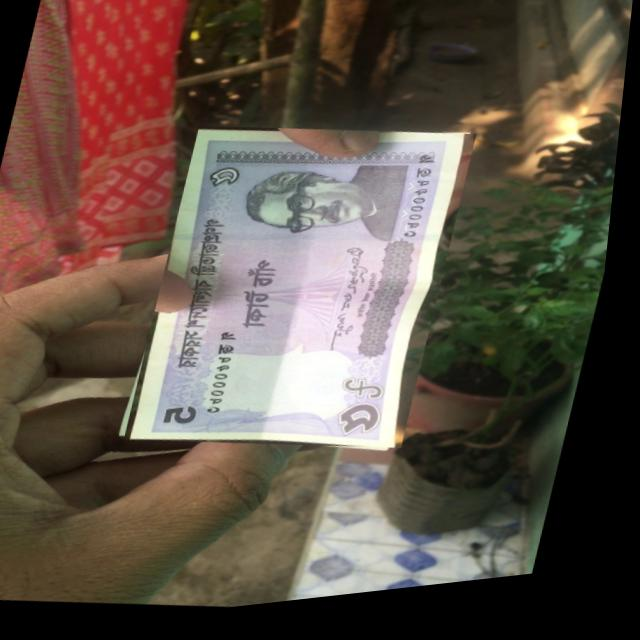Taka: (131, 106, 483, 483)
